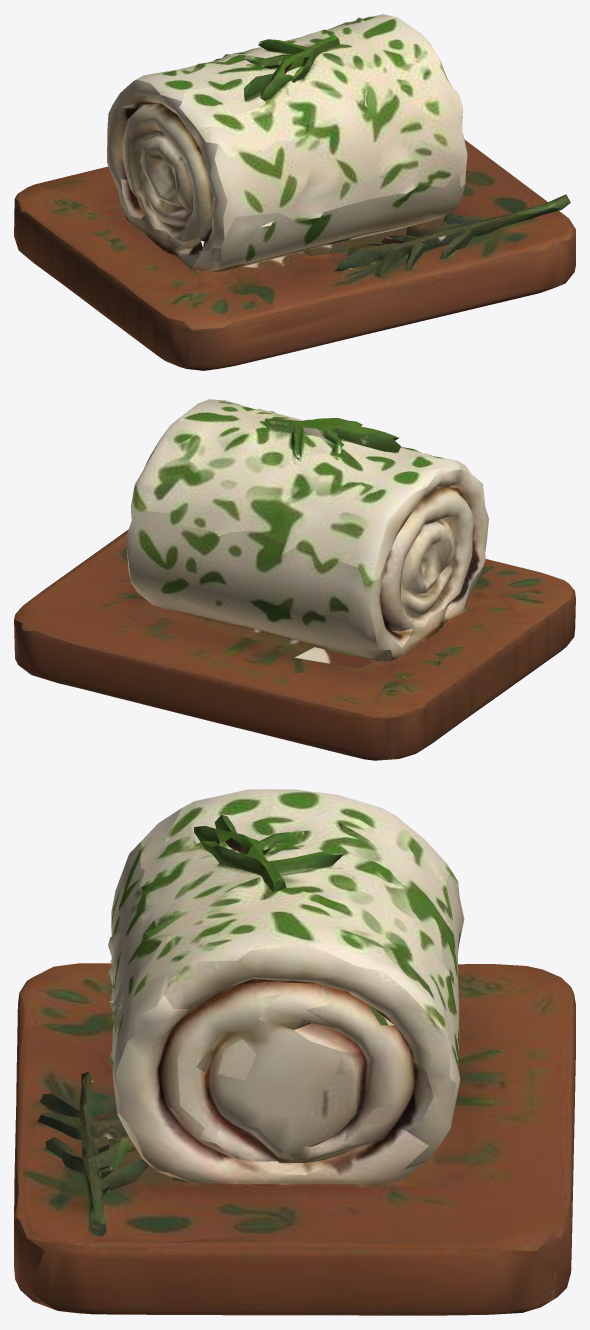
File: goat_cheese.glb
3 renders of one model, top to bottom at view 1: azimuth 30°, elevation 25°; view 2: azimuth 150°, elevation 25°; view 3: azimuth 270°, elevation 25°, orthographic. The views are drawn at different scales.
Visible parts, largest first — view 1: goat_cheese; view 2: goat_cheese; view 3: goat_cheese.
Boxes of the visible parts, box(x1,y1,x2,y2) form: goat_cheese: box(14, 14, 575, 370); goat_cheese: box(14, 399, 575, 760); goat_cheese: box(14, 789, 575, 1315).
Size of the model in its own units: 1 by 0.5171 by 0.819.
Materials: 1 (1 with a texture image).
